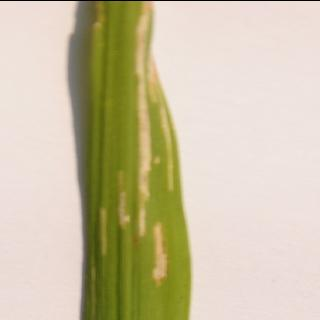Hawar-Daun: (134, 0, 160, 238), (154, 85, 180, 193), (149, 218, 170, 288), (114, 167, 132, 231)
